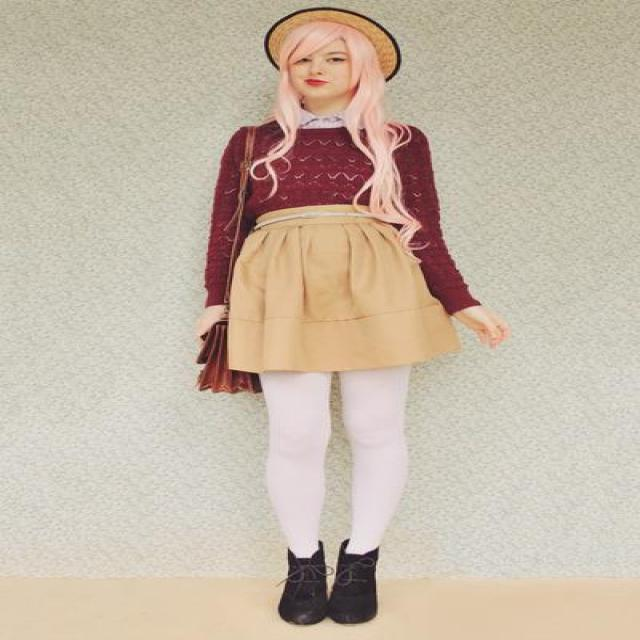bag: (197, 320, 261, 394)
hat: (264, 0, 400, 81)
shirt: (205, 120, 480, 314)
shoe: (278, 541, 378, 624)
skirt: (219, 192, 461, 385)
